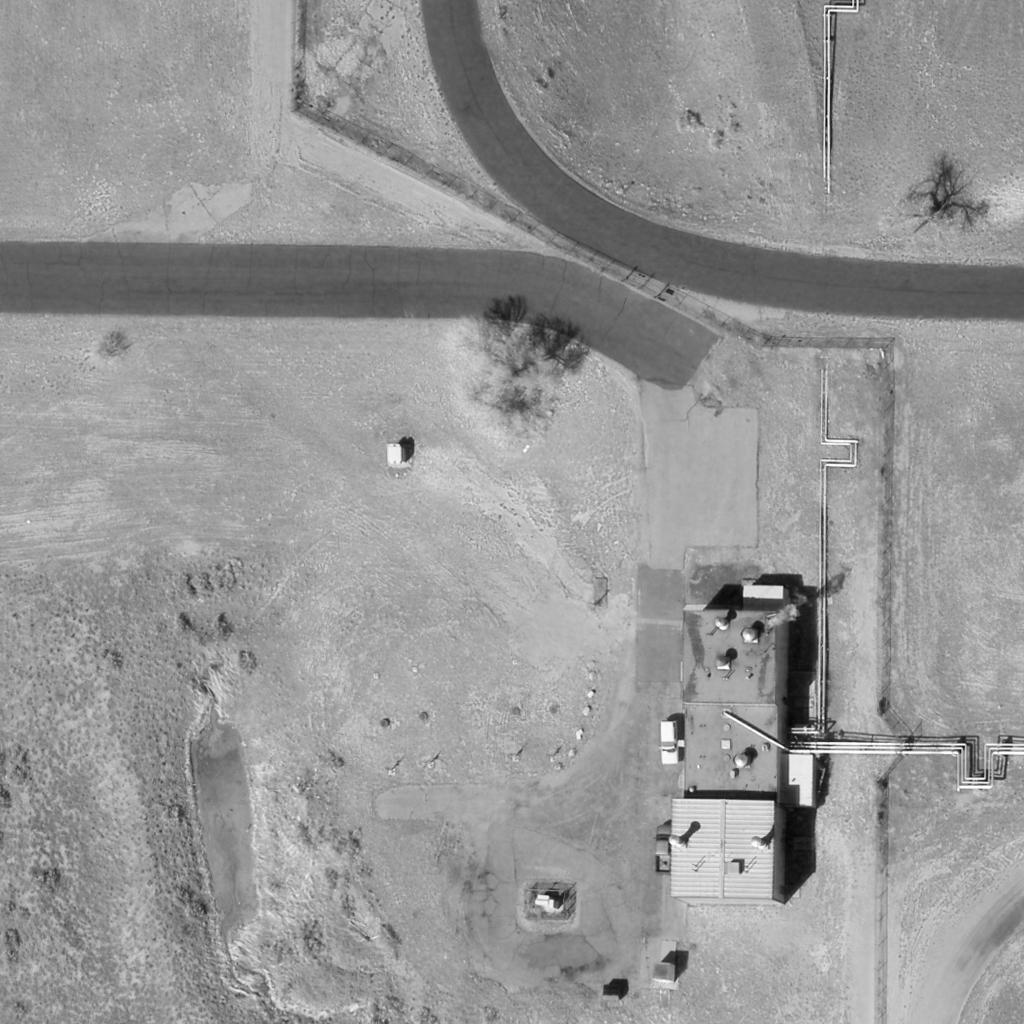vehicle: (659, 720, 681, 766)
